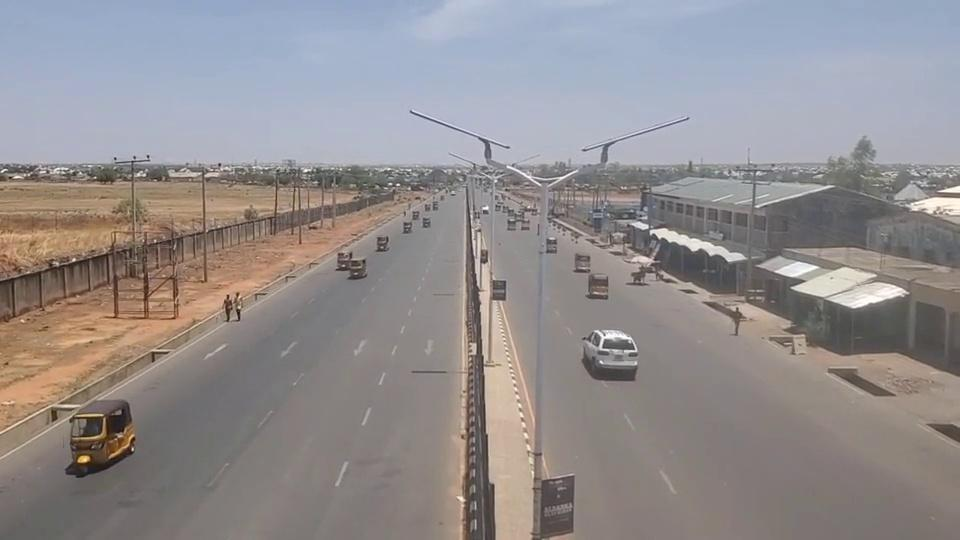car: (582, 328, 639, 377)
keke: (67, 398, 136, 472), (587, 274, 609, 298), (348, 258, 367, 279), (574, 253, 591, 272), (336, 251, 352, 270), (376, 236, 389, 251)
